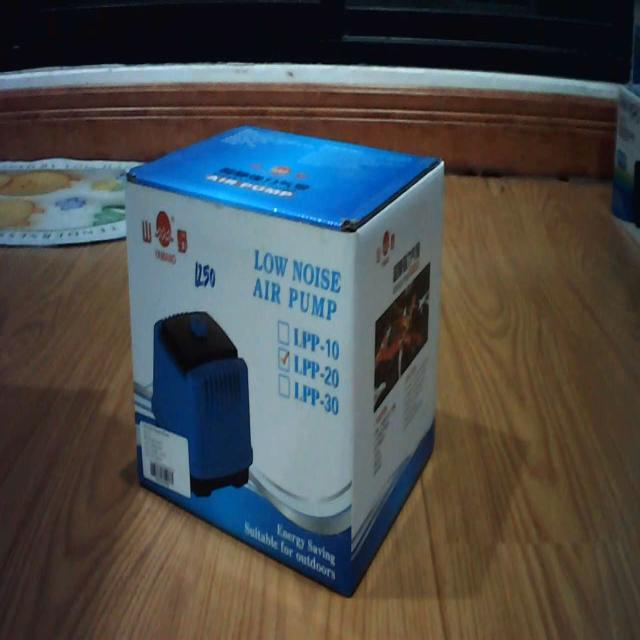YAMANO_LPP_20: (116, 111, 456, 601)
